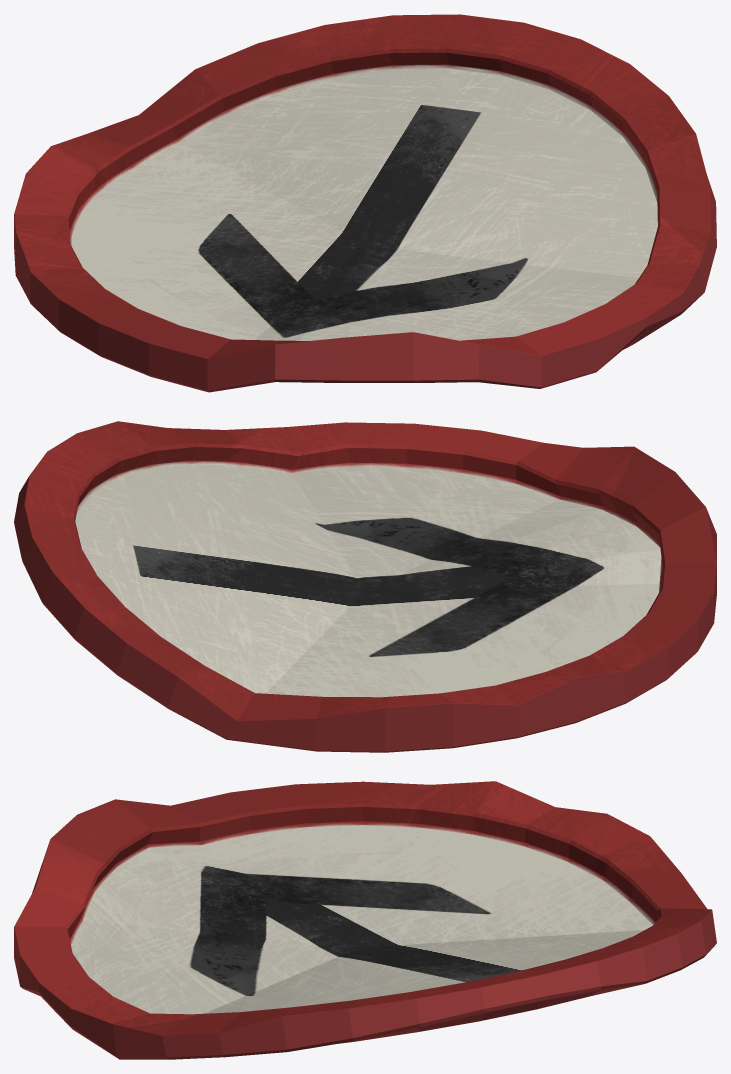
3 views of the same model, one above another, from view 1: azimuth 30°, elevation 25°; view 2: azimuth 150°, elevation 25°; view 3: azimuth 270°, elevation 25° (orthographic). The views are drawn at different scales.
Visible parts, largest first — view 1: Cylinder.069; view 2: Cylinder.069; view 3: Cylinder.069.
Boxes of the visible parts, left/top/right/bottom form: Cylinder.069: left=14, top=14, right=716, bottom=392; Cylinder.069: left=14, top=421, right=716, bottom=752; Cylinder.069: left=14, top=781, right=716, bottom=1059.
Bounding box in the file's own units: 199 × 33.81 × 203.
Materials: 3 (1 with a texture image).
